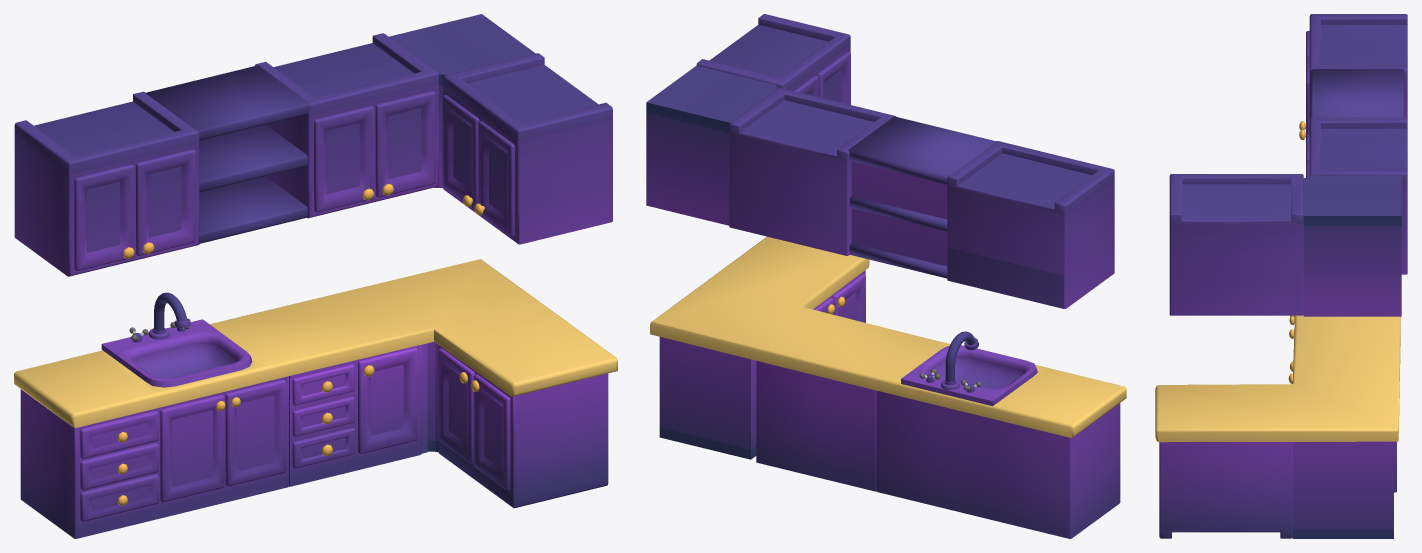
Rendered from Purplekitchen.fbx.
The picture shows the model from 3 angles, left to right: view 1: azimuth 30°, elevation 25°; view 2: azimuth 150°, elevation 25°; view 3: azimuth 270°, elevation 25°; orthographic projection. The views are drawn at different scales.
Visible parts, largest first — view 1: Stand, Cabinet01, UpCabinet, UpCabinet03, Upcabinet02, Cabinet03, CabinetMiddle, Cabinet02, Cabinet04.001, Cabinet04; view 2: Stand, Cabinet01, UpCabinet, Upcabinet02, CabinetMiddle, Cabinet04.001, Cabinet02, Cabinet04, UpCabinet03, Cabinet03; view 3: Stand, UpCabinet03, Cabinet04.001, Cabinet03, Cabinet04, Upcabinet02, UpCabinet, CabinetMiddle.
Part boxes in pixels (<box>): Stand: <box>14,259,617,427</box>; Cabinet01: <box>20,376,288,538</box>; UpCabinet: <box>14,91,199,276</box>; UpCabinet03: <box>442,53,612,244</box>; Upcabinet02: <box>254,33,438,218</box>; Cabinet03: <box>437,344,608,508</box>; CabinetMiddle: <box>145,65,308,243</box>; Cabinet02: <box>289,343,427,486</box>; Cabinet04.001: <box>389,14,535,187</box>; Cabinet04: <box>427,342,437,452</box>; Stand: <box>650,236,1126,437</box>; Cabinet01: <box>876,390,1120,538</box>; UpCabinet: <box>947,141,1114,308</box>; Upcabinet02: <box>729,87,896,255</box>; CabinetMiddle: <box>848,116,996,278</box>; Cabinet04.001: <box>646,65,777,225</box>; Cabinet02: <box>756,361,876,491</box>; Cabinet04: <box>659,337,756,459</box>; UpCabinet03: <box>696,14,850,104</box>; Cabinet03: <box>813,270,865,322</box>; Stand: <box>1155,315,1400,442</box>; UpCabinet03: <box>1169,174,1303,315</box>; Cabinet04.001: <box>1303,175,1401,316</box>; Cabinet03: <box>1159,442,1292,538</box>; Cabinet04: <box>1292,441,1393,538</box>; Upcabinet02: <box>1306,117,1407,274</box>; UpCabinet: <box>1299,14,1407,139</box>; CabinetMiddle: <box>1311,69,1403,117</box>.
Bounding box in the file's own units: 435 × 329 × 228.
